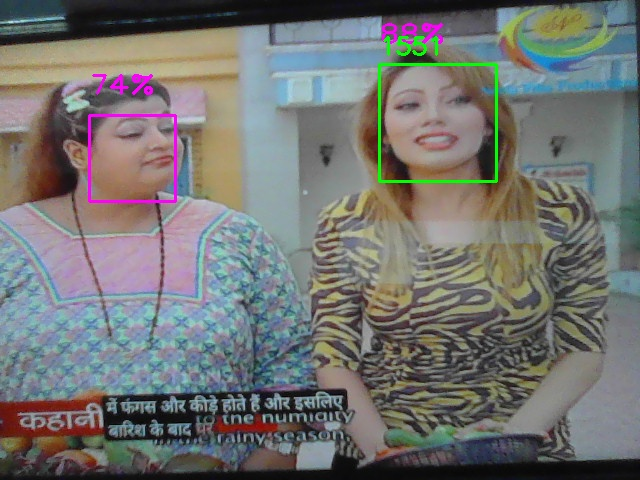fake: (379, 64, 497, 182)
